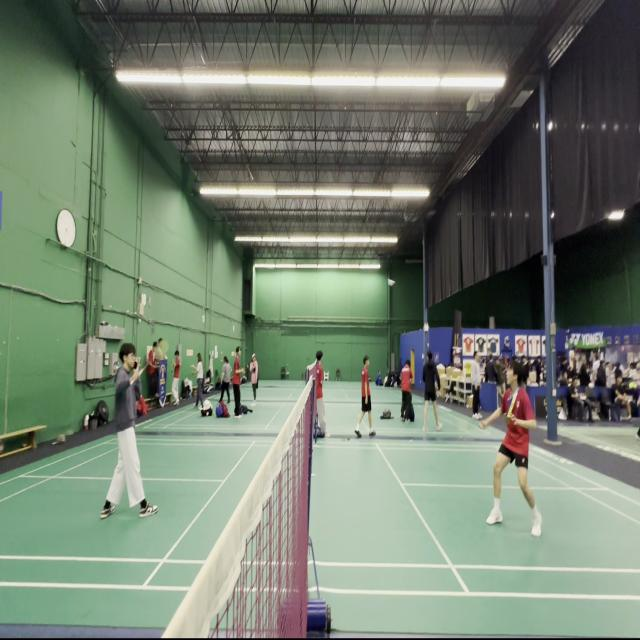shuttlecock: (387, 279, 395, 285)
